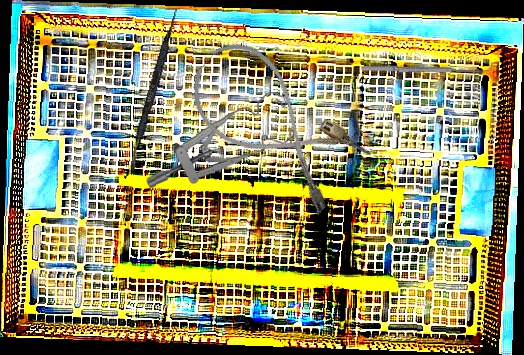Cannula: (174, 29, 375, 220)
Hook Surgical: (359, 59, 495, 76)
Spatula Surgical: (123, 7, 180, 181)
Speculum: (140, 90, 298, 189)
